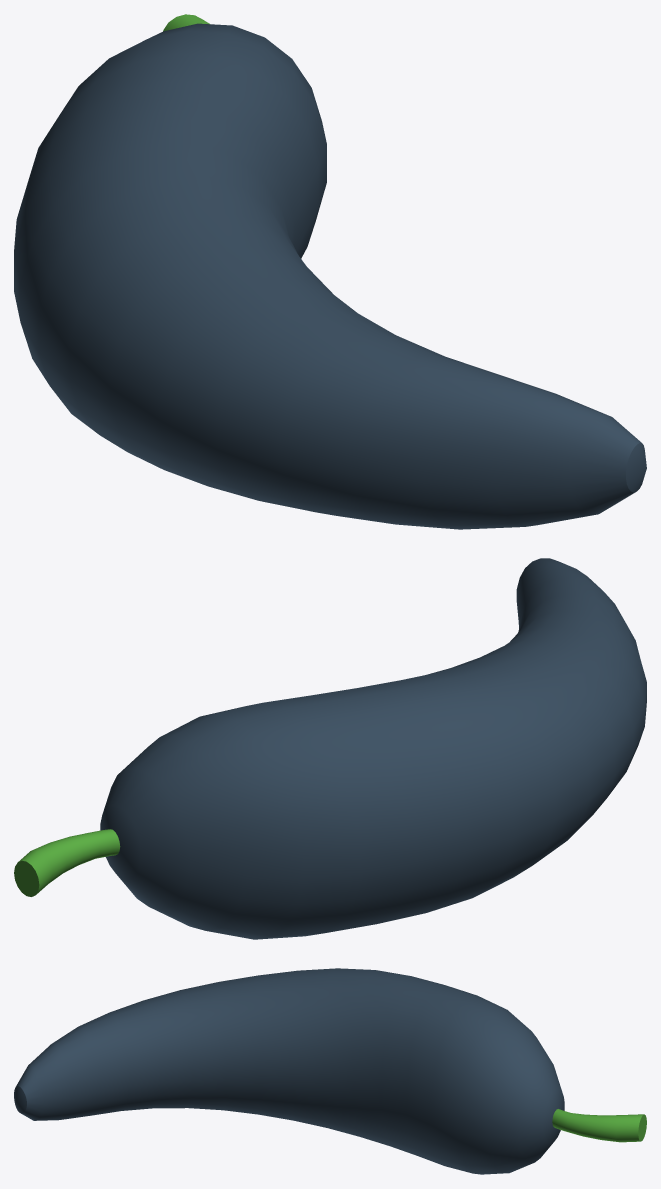
File: Pepper Black.fbx
3 views of the same model, one above another, from view 1: azimuth 30°, elevation 25°; view 2: azimuth 150°, elevation 25°; view 3: azimuth 270°, elevation 25° (orthographic). The views are drawn at different scales.
Parts seen in each view (by area): view 1: Pepper Black; view 2: Pepper Black; view 3: Pepper Black.
Boxes of the visible parts, x1,y1,x2,y2 form: Pepper Black: (14,14,646,529); Pepper Black: (14,558,646,939); Pepper Black: (14,968,646,1174).
Bounding box in the file's own units: 0.3449 × 0.2118 × 0.7584.
